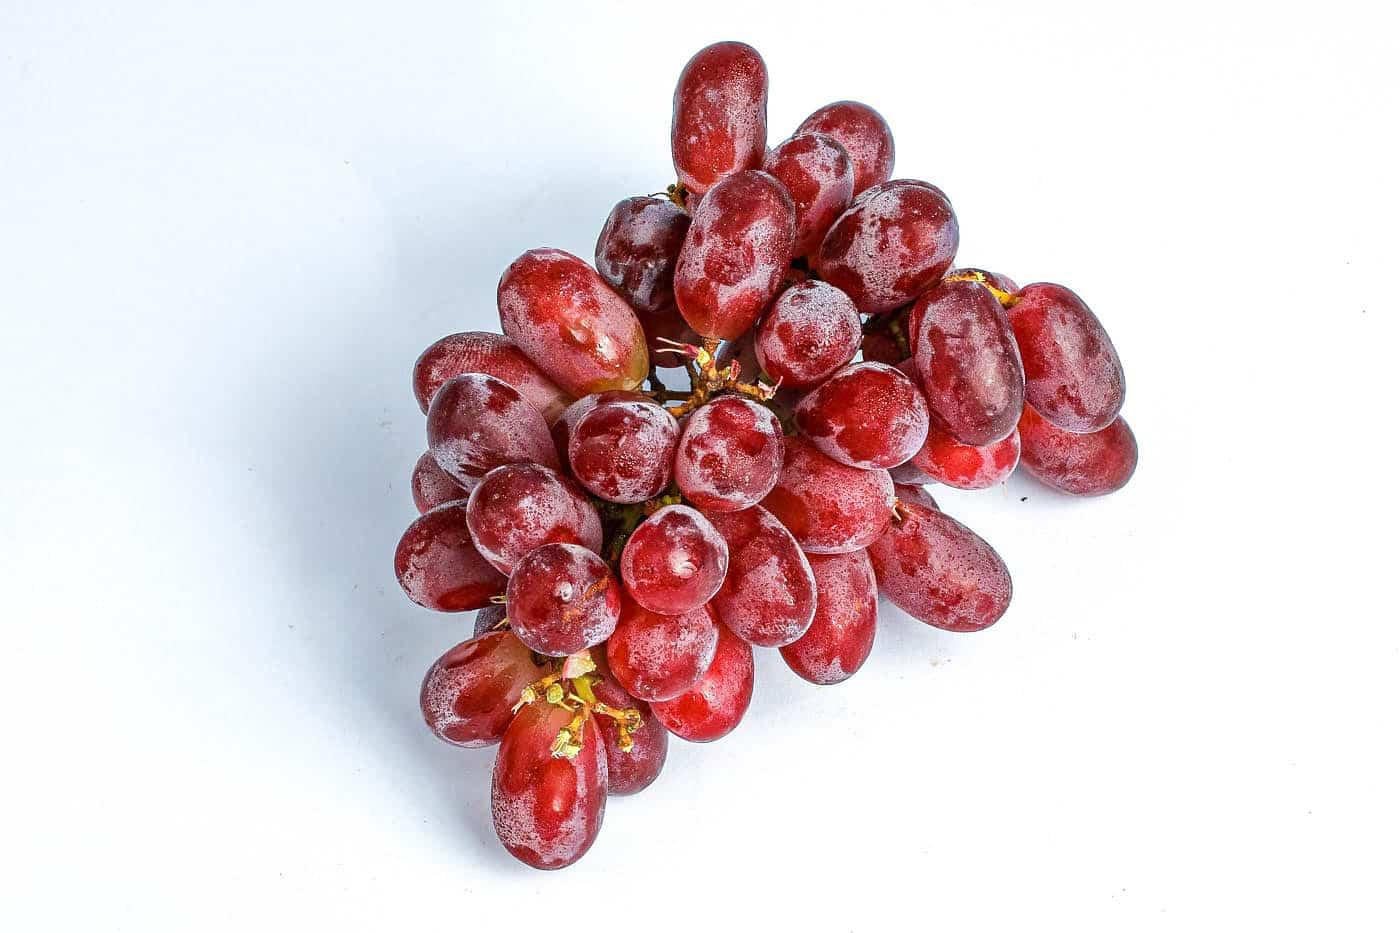grape: (356, 26, 1186, 875)
